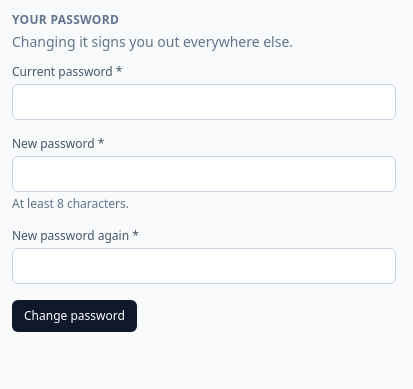
Scenario: Password settings › checks the new password before sending it
Type "old" into the password field labelled "Current password *". click: (204, 102)
box: [12,84,396,120]
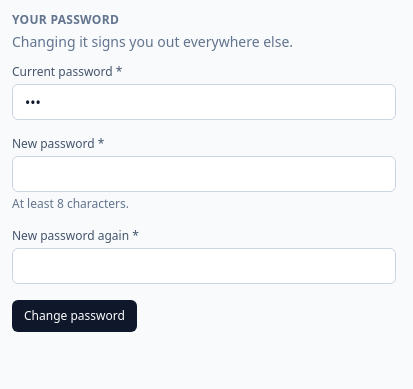
Type "short" into the password field named "New password (". click: (204, 174)
box: [12,156,396,192]
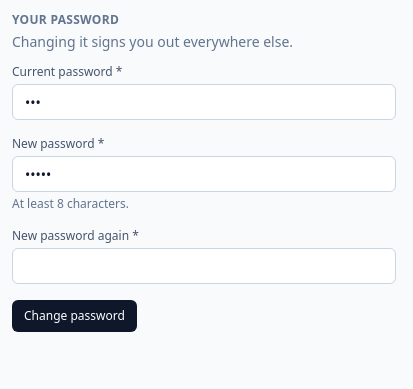
Type "shorter" into the password field labelled "New password again *". click: (204, 266)
box: [12,248,396,284]
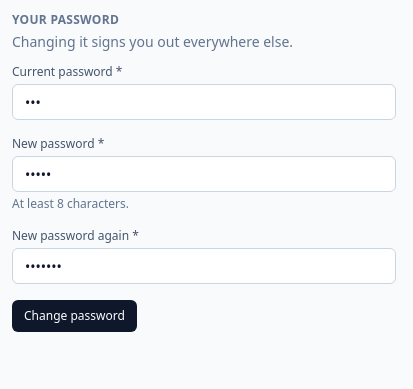
Click the button "Change password". click: (74, 316)
box: [12,300,137,332]
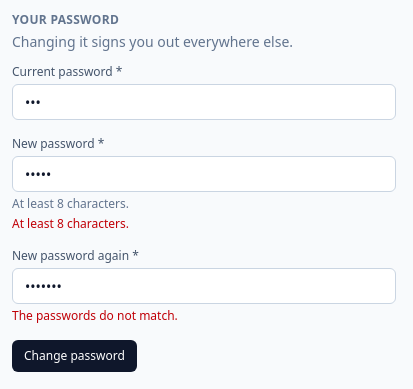
Check: the 2nd text "At least 8 characters." is shown, box [12,215,129,232]
Check: the text "The passwords do not match." is shown, box [12,307,178,324]
